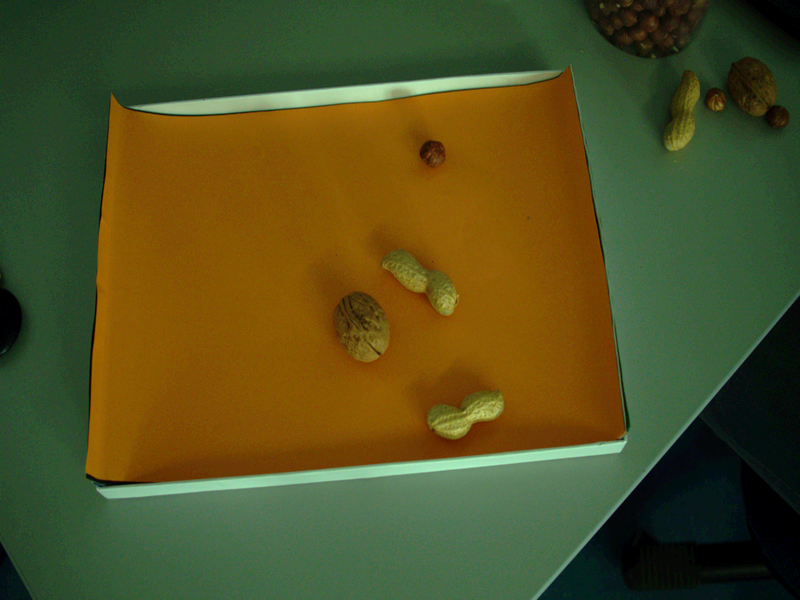walnut: (325, 284, 395, 372)
